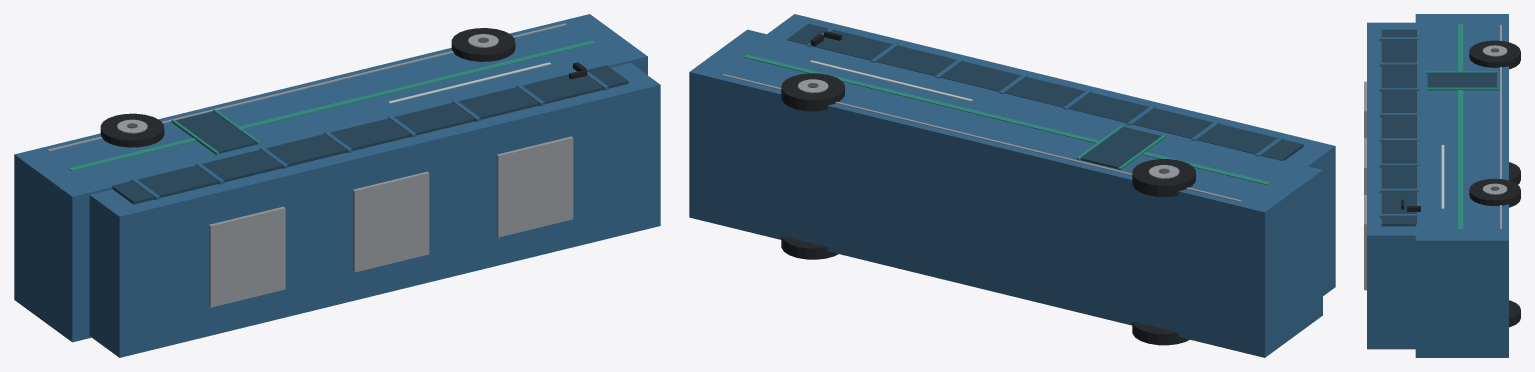
Rendered from RM_Bus_21.glb.
The picture shows the model from 3 angles, left to right: view 1: azimuth 30°, elevation 25°; view 2: azimuth 150°, elevation 25°; view 3: azimuth 270°, elevation 25°; orthographic projection. The views are drawn at different scales.
Parts seen in each view (by area): view 1: part_001, part_000, part_002, part_038, part_039, part_037, part_013, part_040, part_024, part_030, part_014; view 2: part_000, part_002, part_001, part_013, part_040, part_030, part_024, part_014, part_021, part_027; view 3: part_000, part_001, part_002, part_013, part_040, part_024, part_030, part_014, part_039, part_042, part_027, part_043 (+6 smaller).
Boxes of the visible parts, x1,y1,x2,y2 form: part_001: (89, 63, 660, 357); part_000: (14, 14, 647, 342); part_002: (112, 65, 628, 204); part_038: (352, 171, 429, 272); part_039: (496, 136, 573, 237); part_037: (209, 206, 285, 307); part_013: (68, 40, 595, 170); part_040: (175, 111, 256, 153); part_024: (100, 113, 164, 147); part_030: (451, 28, 515, 61); part_014: (47, 23, 566, 151); part_000: (689, 29, 1322, 357); part_002: (787, 23, 1303, 160); part_001: (767, 14, 1335, 295); part_013: (743, 54, 1270, 185); part_040: (1080, 126, 1161, 168); part_030: (781, 73, 844, 111); part_024: (1132, 159, 1195, 196); part_014: (722, 74, 1241, 202); part_021: (1132, 321, 1189, 345); part_027: (781, 236, 838, 259); part_000: (1415, 14, 1508, 357); part_001: (1367, 22, 1415, 349); part_002: (1381, 29, 1416, 226); part_013: (1458, 23, 1463, 230); part_040: (1427, 72, 1496, 87); part_024: (1469, 40, 1520, 69); part_030: (1469, 178, 1520, 207); part_014: (1500, 24, 1501, 229); part_039: (1364, 195, 1366, 290); part_042: (1426, 87, 1498, 90); part_027: (1509, 300, 1520, 327); part_043: (1441, 145, 1444, 208).
Size of the model in its own units: 10.8 by 2.93 by 3.16.
